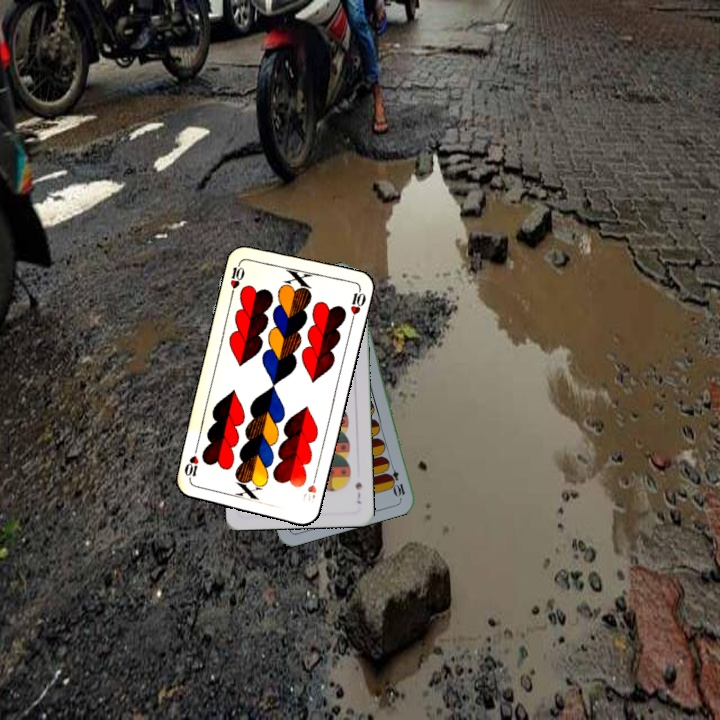E10: (385, 459, 408, 499)
H10: (226, 258, 247, 298), (299, 470, 319, 505)
S7: (351, 478, 365, 506)
